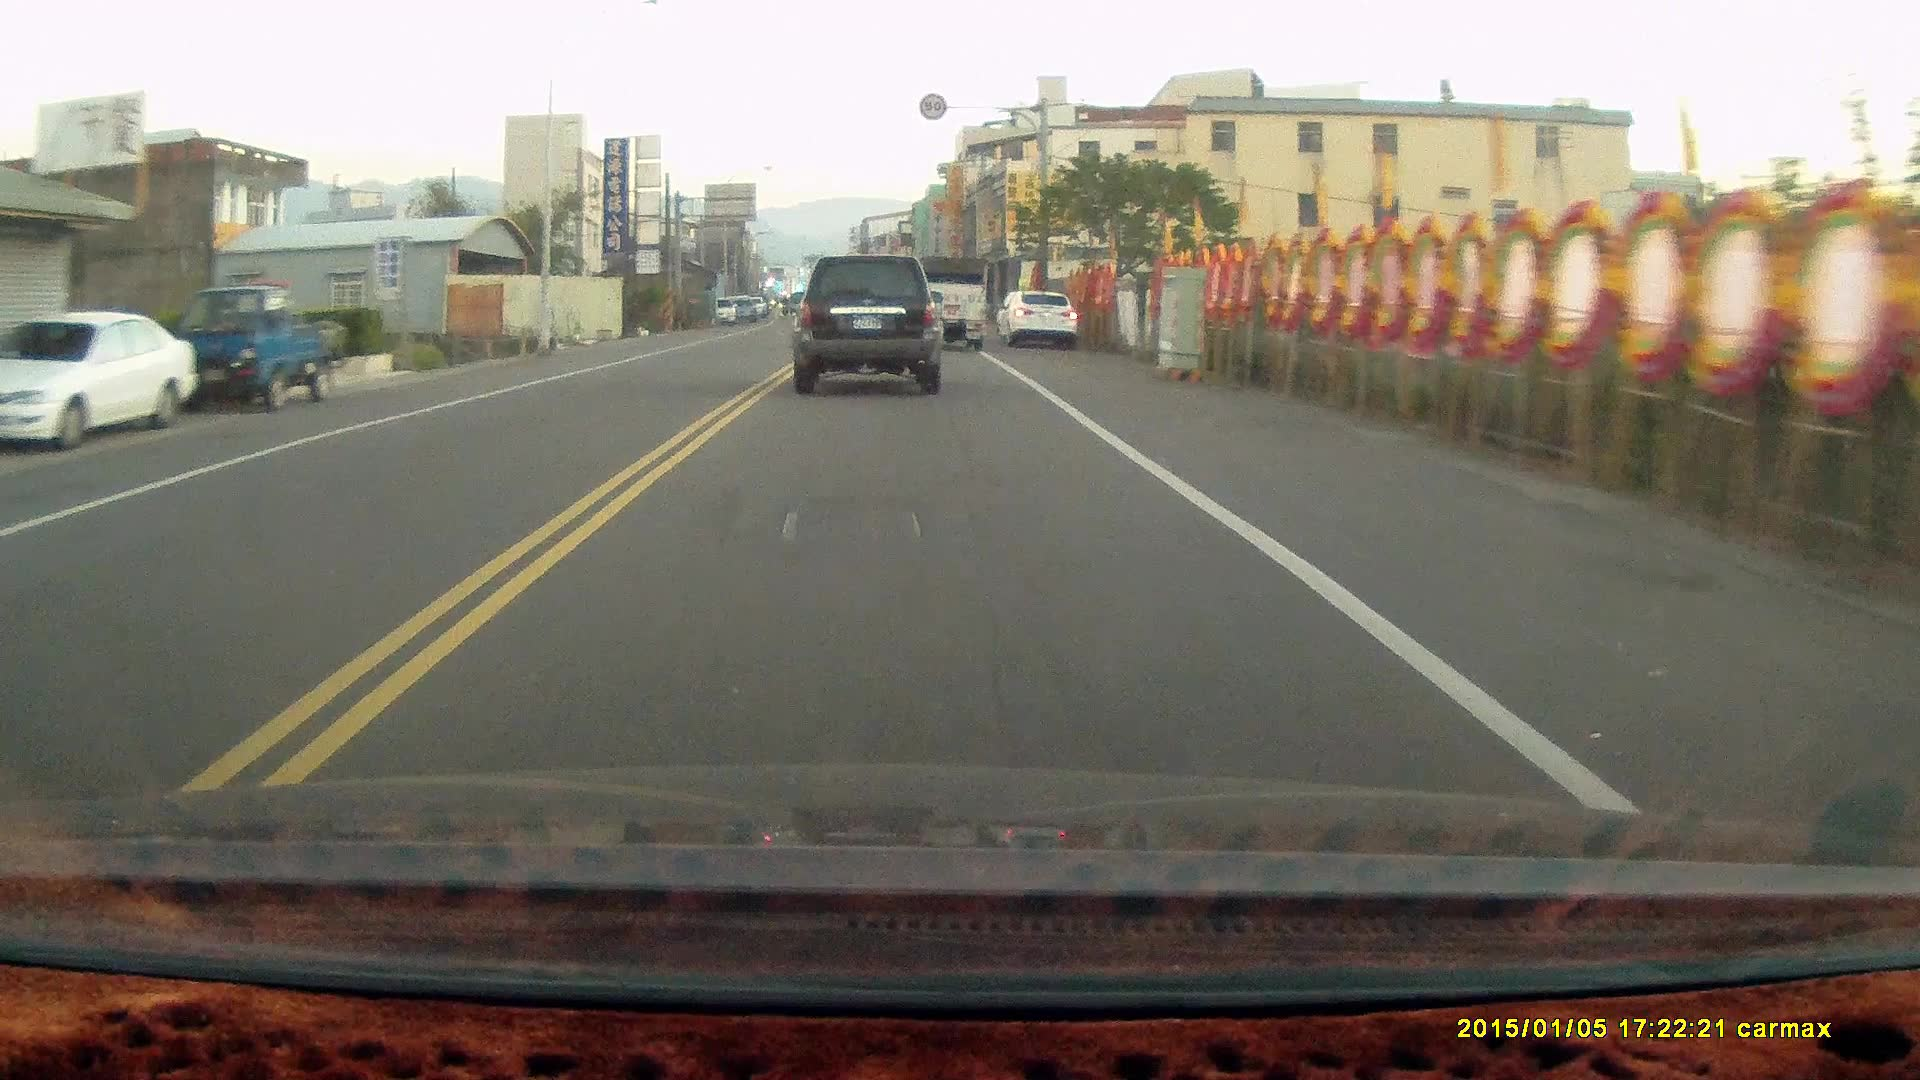vehicle: (1, 309, 198, 448), (162, 284, 345, 415), (794, 256, 945, 398), (913, 253, 992, 349), (1004, 286, 1081, 348)
